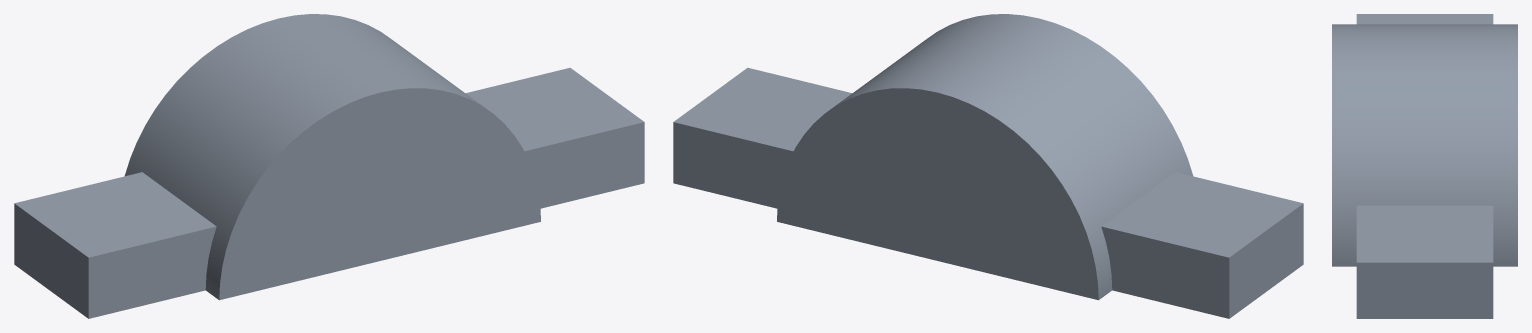
File: step_07.glb
3 renders of one model, left to right at view 1: azimuth 30°, elevation 25°; view 2: azimuth 150°, elevation 25°; view 3: azimuth 270°, elevation 25°, orthographic. The views are drawn at different scales.
Visible parts, largest first — view 1: part__housing cap; view 2: part__housing cap; view 3: part__housing cap.
Part boxes in pixels (x1,y1,x2,y2): part__housing cap: (14, 14, 644, 318); part__housing cap: (673, 14, 1303, 318); part__housing cap: (1332, 14, 1517, 318).
Size of the model in its own units: 190 by 55 by 60.
